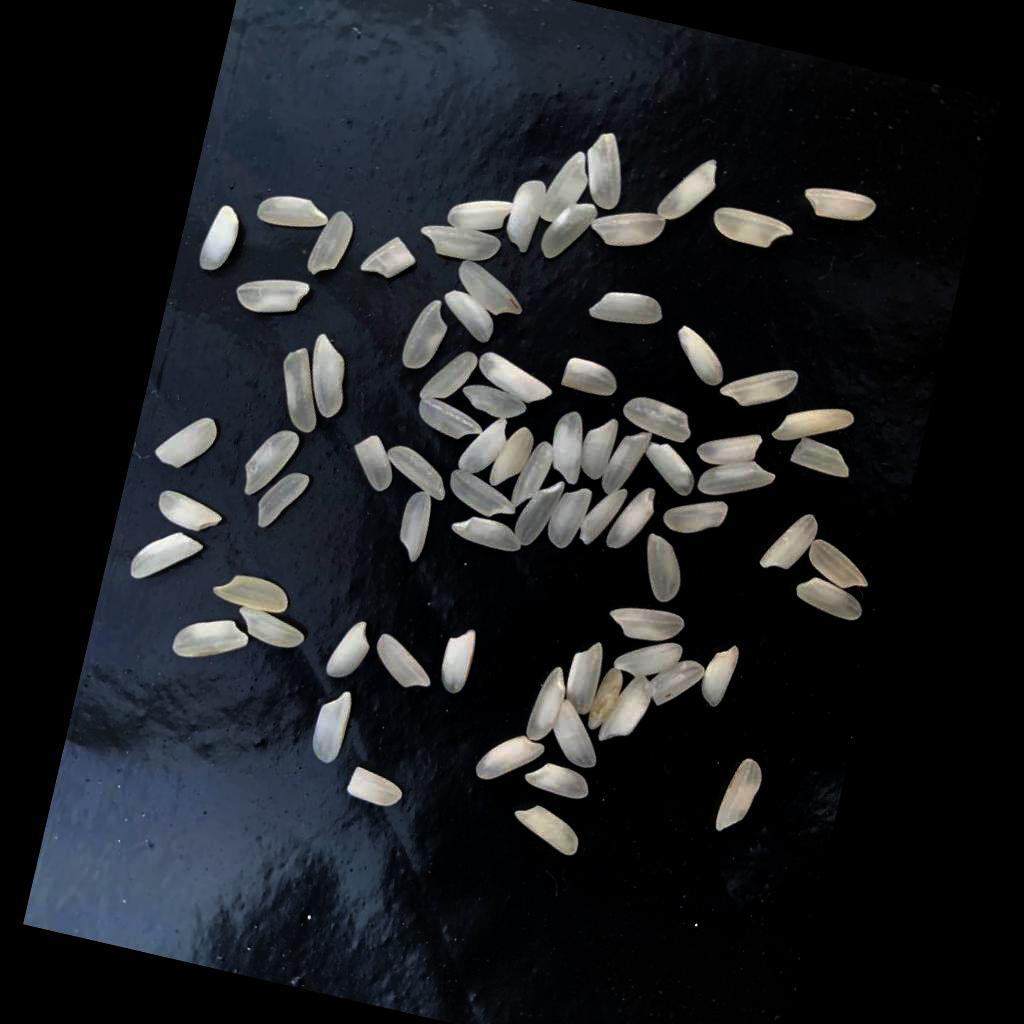rice: (271, 346, 334, 436), (130, 524, 209, 594), (772, 396, 858, 458), (300, 332, 359, 422), (655, 150, 722, 229), (473, 350, 561, 410), (172, 608, 254, 671), (452, 259, 532, 323), (241, 424, 304, 504), (720, 356, 802, 417), (697, 450, 779, 510), (599, 669, 658, 751), (476, 728, 550, 793), (154, 408, 223, 477), (759, 506, 822, 581), (708, 203, 797, 255), (508, 801, 587, 859), (380, 443, 456, 503), (716, 754, 769, 840), (371, 633, 443, 696), (401, 295, 456, 377), (542, 146, 596, 229), (540, 195, 601, 268), (511, 474, 567, 553), (589, 201, 669, 256), (606, 600, 690, 652), (418, 343, 482, 411), (235, 268, 314, 323), (635, 532, 692, 608), (550, 700, 610, 772), (445, 469, 523, 524), (669, 325, 735, 389), (613, 630, 687, 686), (606, 481, 661, 556), (619, 393, 698, 445), (804, 538, 877, 594), (794, 573, 871, 626), (601, 425, 654, 502), (588, 284, 669, 334), (418, 221, 504, 268), (306, 207, 359, 283), (257, 467, 314, 537), (526, 663, 574, 746), (545, 408, 595, 487), (310, 687, 358, 769), (457, 412, 513, 481), (437, 287, 503, 345), (578, 481, 631, 553), (213, 571, 294, 618), (561, 637, 609, 716), (802, 181, 881, 229), (346, 430, 403, 496), (502, 177, 549, 257), (647, 652, 707, 714), (696, 422, 766, 475), (544, 483, 595, 555), (663, 490, 732, 543), (639, 441, 702, 499), (155, 488, 227, 538), (197, 202, 245, 277), (415, 397, 488, 446), (234, 607, 310, 654), (326, 616, 377, 686), (446, 189, 515, 240), (256, 191, 332, 237), (512, 438, 558, 514), (489, 423, 538, 494), (394, 488, 438, 565), (360, 232, 422, 286), (450, 512, 528, 554), (459, 382, 532, 426), (523, 758, 595, 802), (699, 640, 743, 711), (578, 414, 622, 484), (439, 625, 481, 697), (790, 436, 856, 479), (588, 664, 628, 734), (347, 766, 409, 811), (562, 356, 624, 400)
